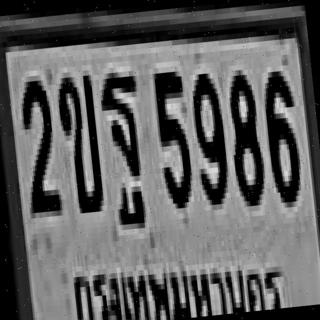A02: (54, 70, 106, 216)
A16: (96, 65, 152, 233)
N02: (14, 74, 61, 217)
N05: (152, 69, 194, 208)
N06: (260, 68, 303, 208)
N08: (222, 63, 268, 208)
N09: (188, 67, 232, 209)
P04: (69, 243, 287, 320)
